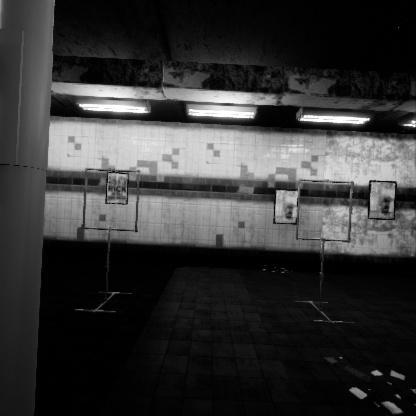gate: (82, 183, 145, 248), (296, 173, 358, 237)
